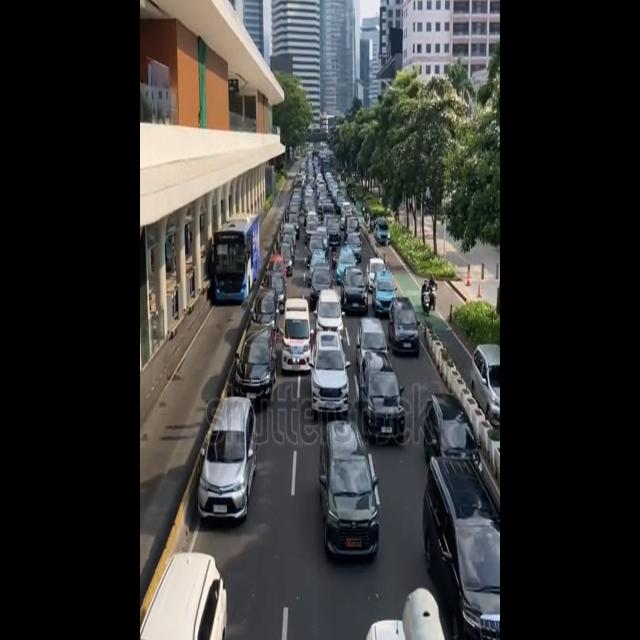Ambulance: (279, 298, 313, 370)
